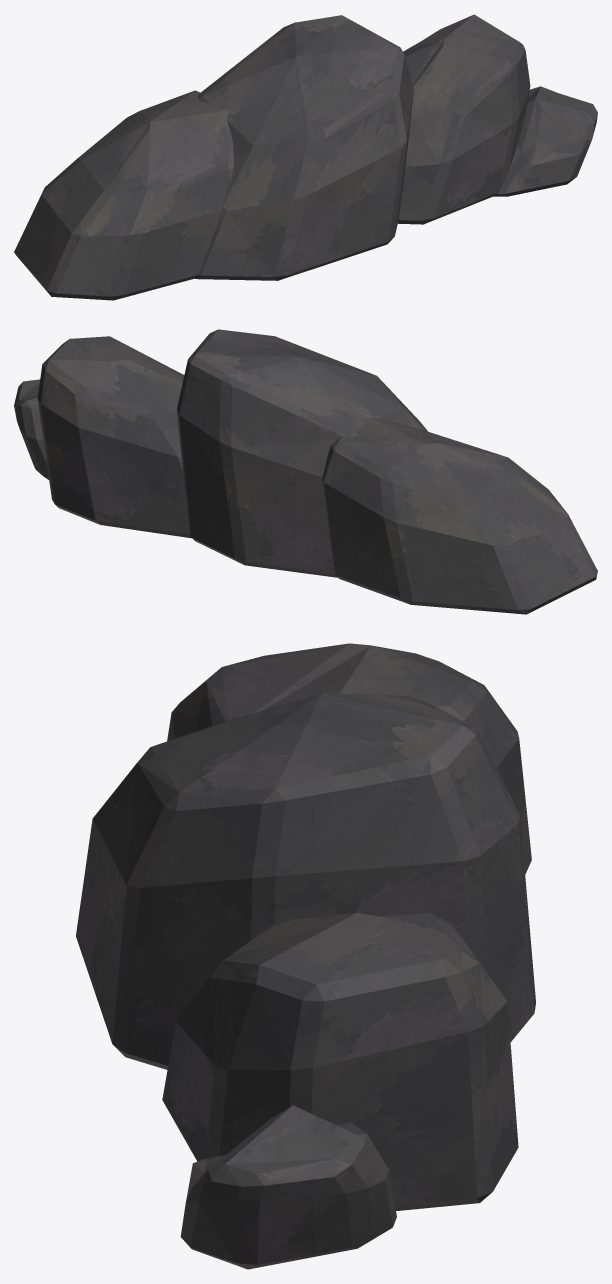
Rendered from slate-ridge.glb.
3 views of the same model, one above another, from view 1: azimuth 30°, elevation 25°; view 2: azimuth 150°, elevation 25°; view 3: azimuth 270°, elevation 25° (orthographic). The views are drawn at different scales.
Parts seen in each view (by area): view 1: slate-ridge; view 2: slate-ridge; view 3: slate-ridge.
Part boxes in pixels (<box>): slate-ridge: <box>14,14,597,300</box>; slate-ridge: <box>14,329,597,614</box>; slate-ridge: <box>76,643,535,1269</box>.
Bounding box in the file's own units: 3.44 × 0.9936 × 1.25.
3 materials, 3 textured.
